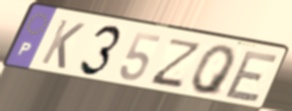3: (76, 23, 125, 78)
5: (117, 30, 164, 82)
E: (221, 49, 282, 104)
K: (38, 17, 88, 71)
Q: (189, 45, 237, 98)
Z: (146, 37, 206, 90)
